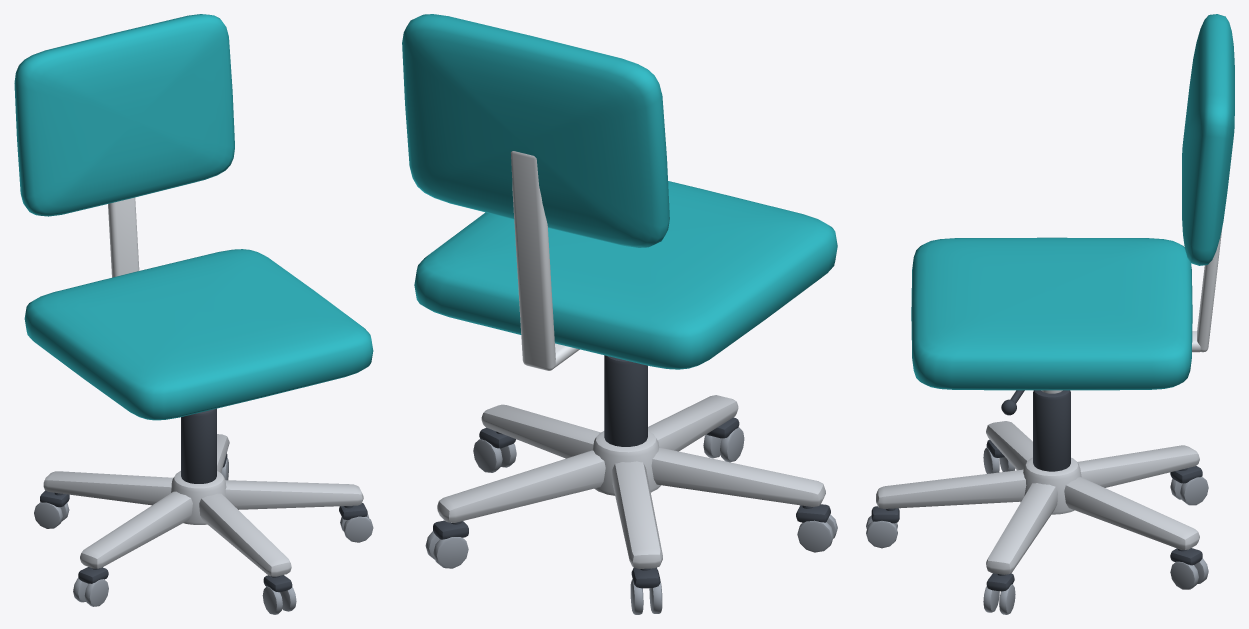
Rendered from cadeira_escritorio_simples_turquesa.glb.
The picture shows the model from 3 angles, left to right: view 1: azimuth 30°, elevation 25°; view 2: azimuth 150°, elevation 25°; view 3: azimuth 270°, elevation 25°; orthographic projection. The views are drawn at different scales.
Parts seen in each view (by area): view 1: cadeira_escritorio_simples_turquesa; view 2: cadeira_escritorio_simples_turquesa; view 3: cadeira_escritorio_simples_turquesa.
Boxes of the visible parts, x1,y1,x2,y2 form: cadeira_escritorio_simples_turquesa: (14, 14, 373, 614); cadeira_escritorio_simples_turquesa: (402, 14, 837, 614); cadeira_escritorio_simples_turquesa: (866, 14, 1234, 614).
Size of the model in its own units: 0.5884 by 0.8784 by 0.603.
1 material, 1 textured.
